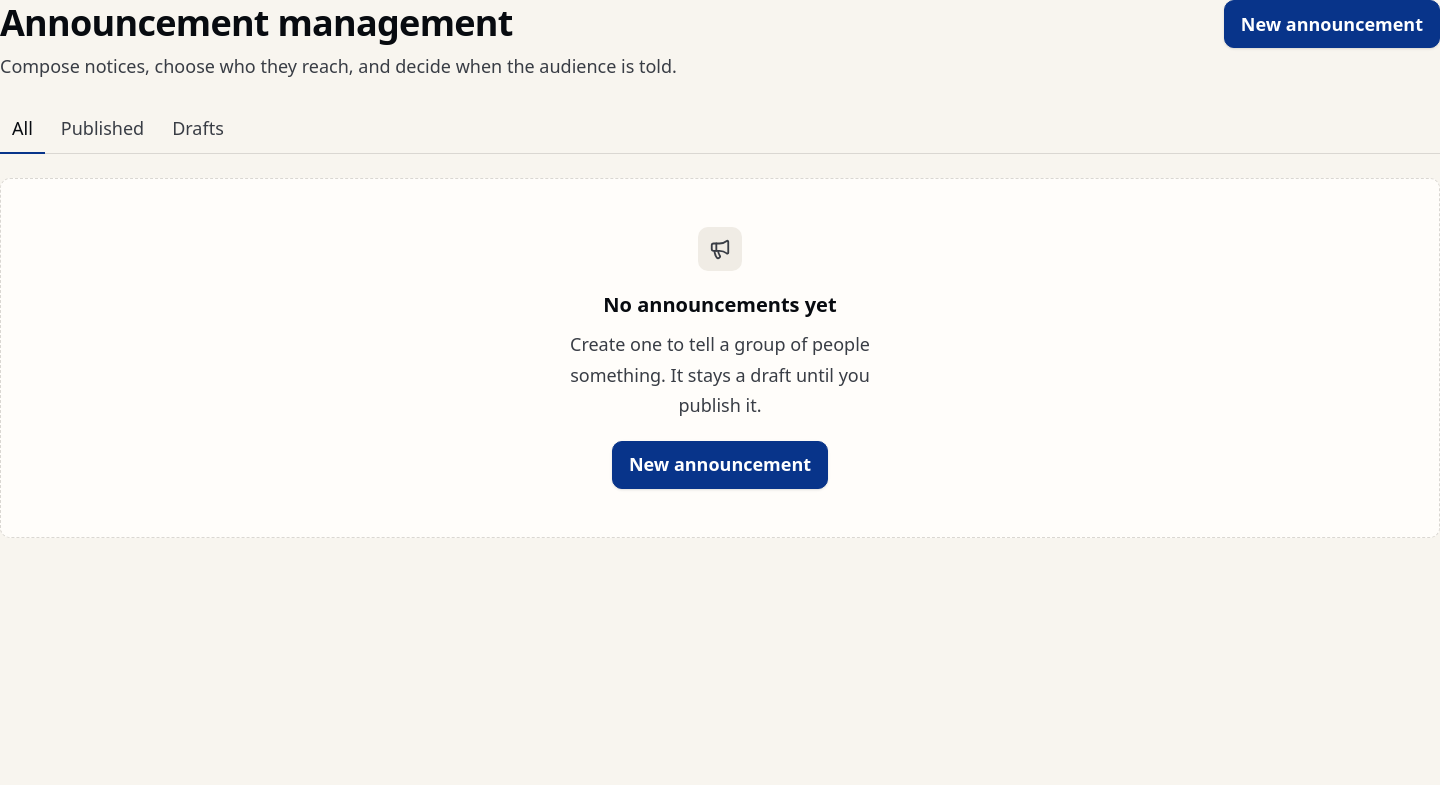
Scenario: AnnouncementManagementPage — Publish from the form › keeps the saved draft and says so when publishing fails
The width and height of the screenshot is (1440, 785).
Step 1. Click the button "New announcement" in the row of "Announcement management" → (1332, 24), box x1=1224 y1=0 x2=1439 y2=48
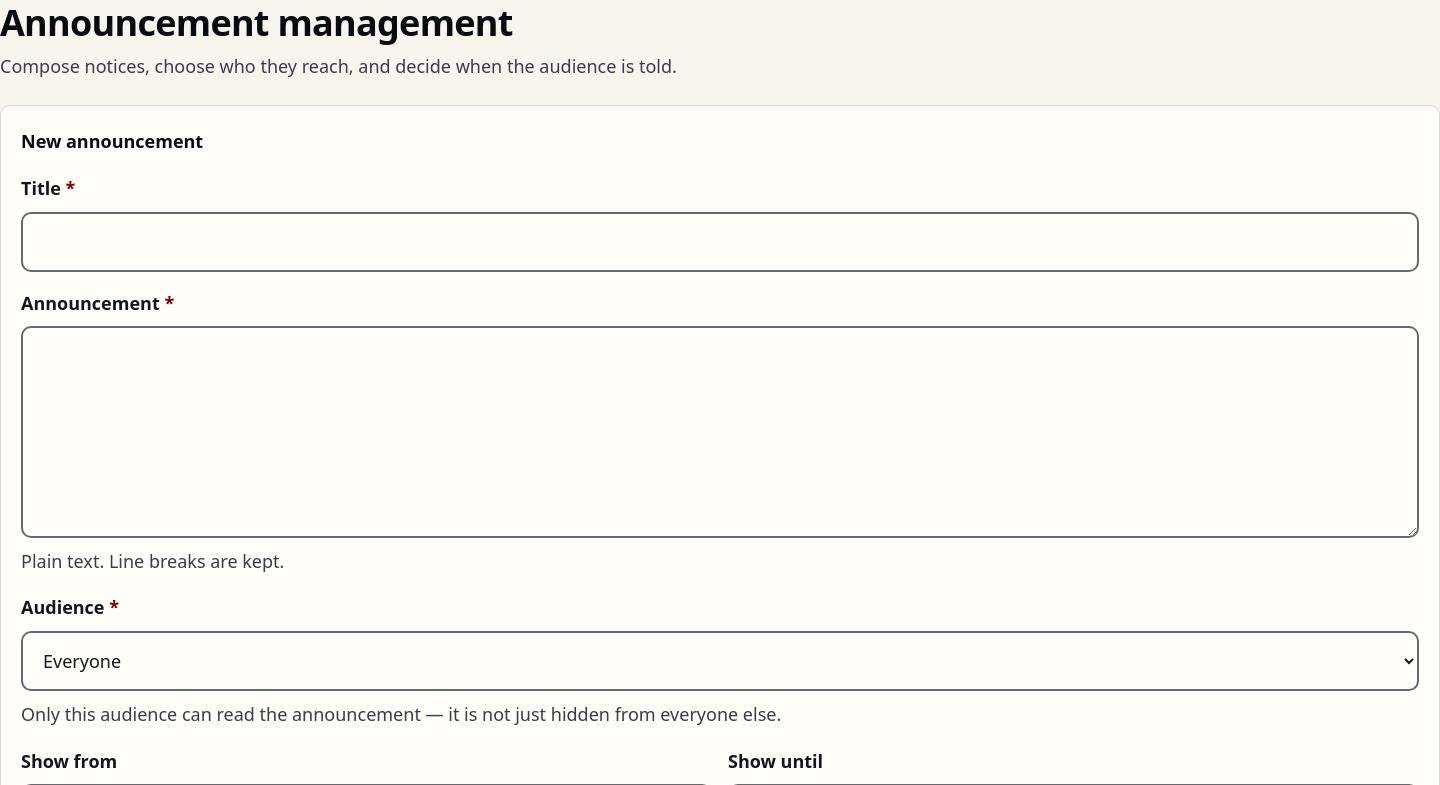
Step 2. Type "Lab closed" into the field labelled "Title *" → (720, 242), box x1=21 y1=212 x2=1419 y2=272
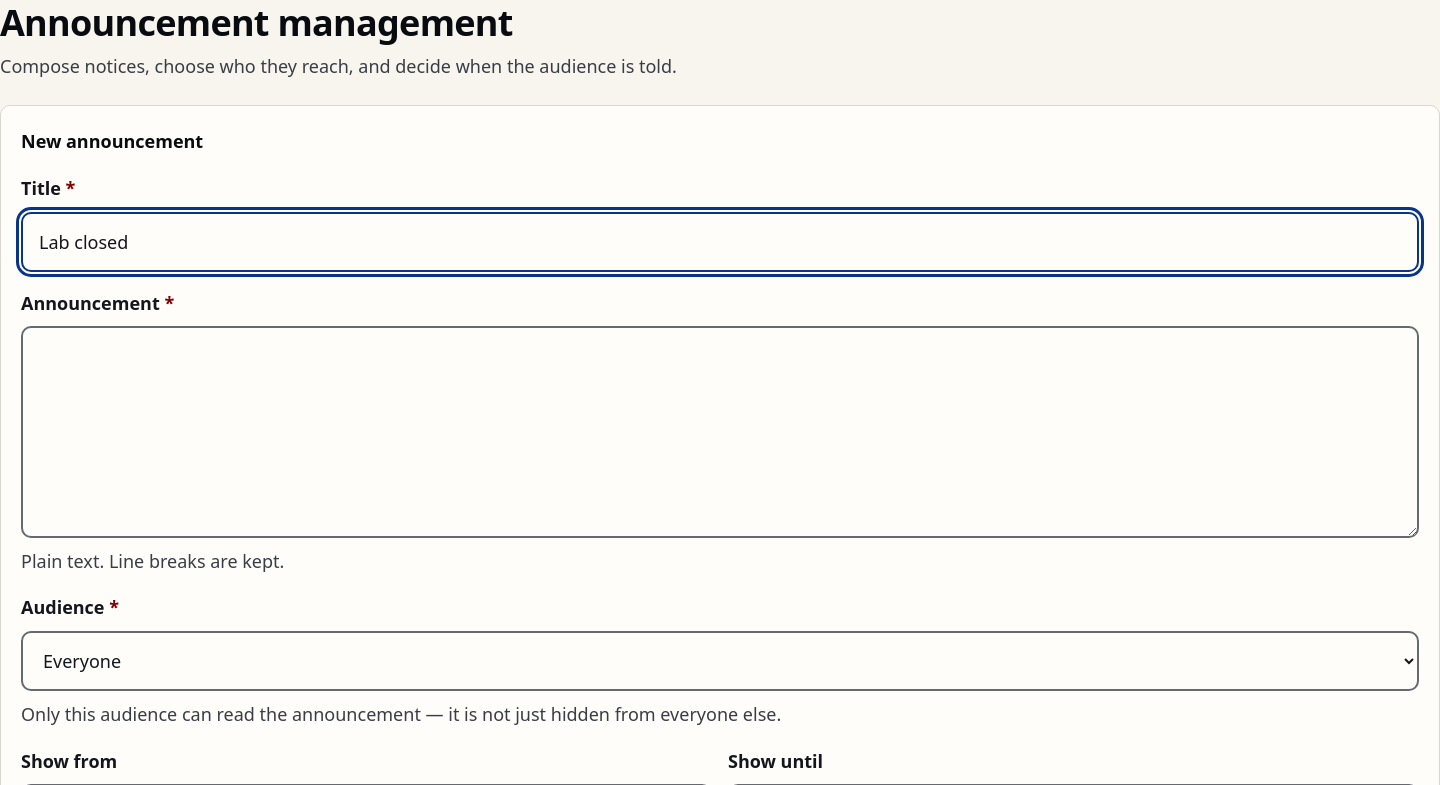
Step 3. Type "Lab 2 is closed today." into the text box labelled "Announcement *" → (720, 432), box x1=21 y1=326 x2=1419 y2=538
(page scrolled)
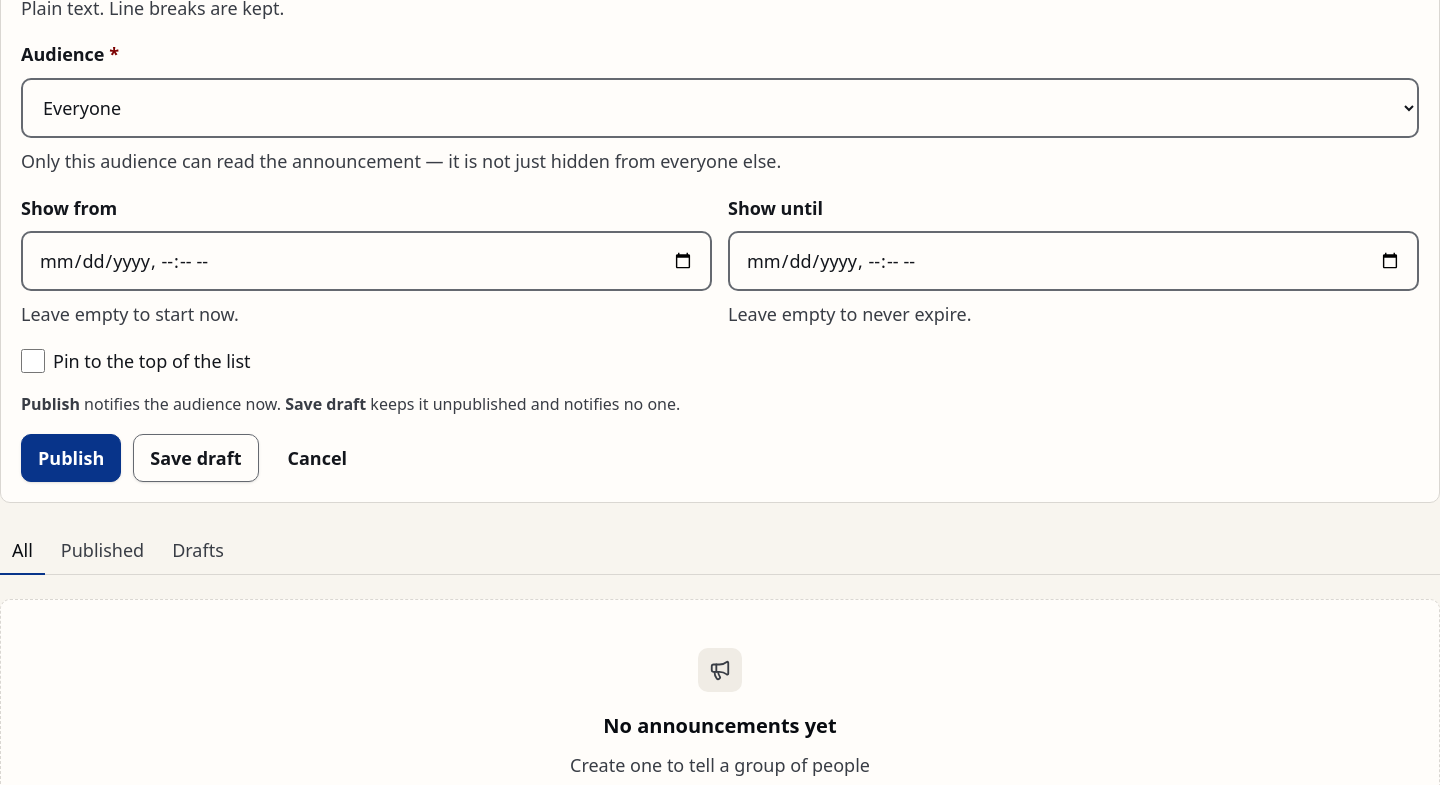
Step 4. Click the button "Publish" → (71, 458), box x1=21 y1=434 x2=121 y2=482
(page scrolled)
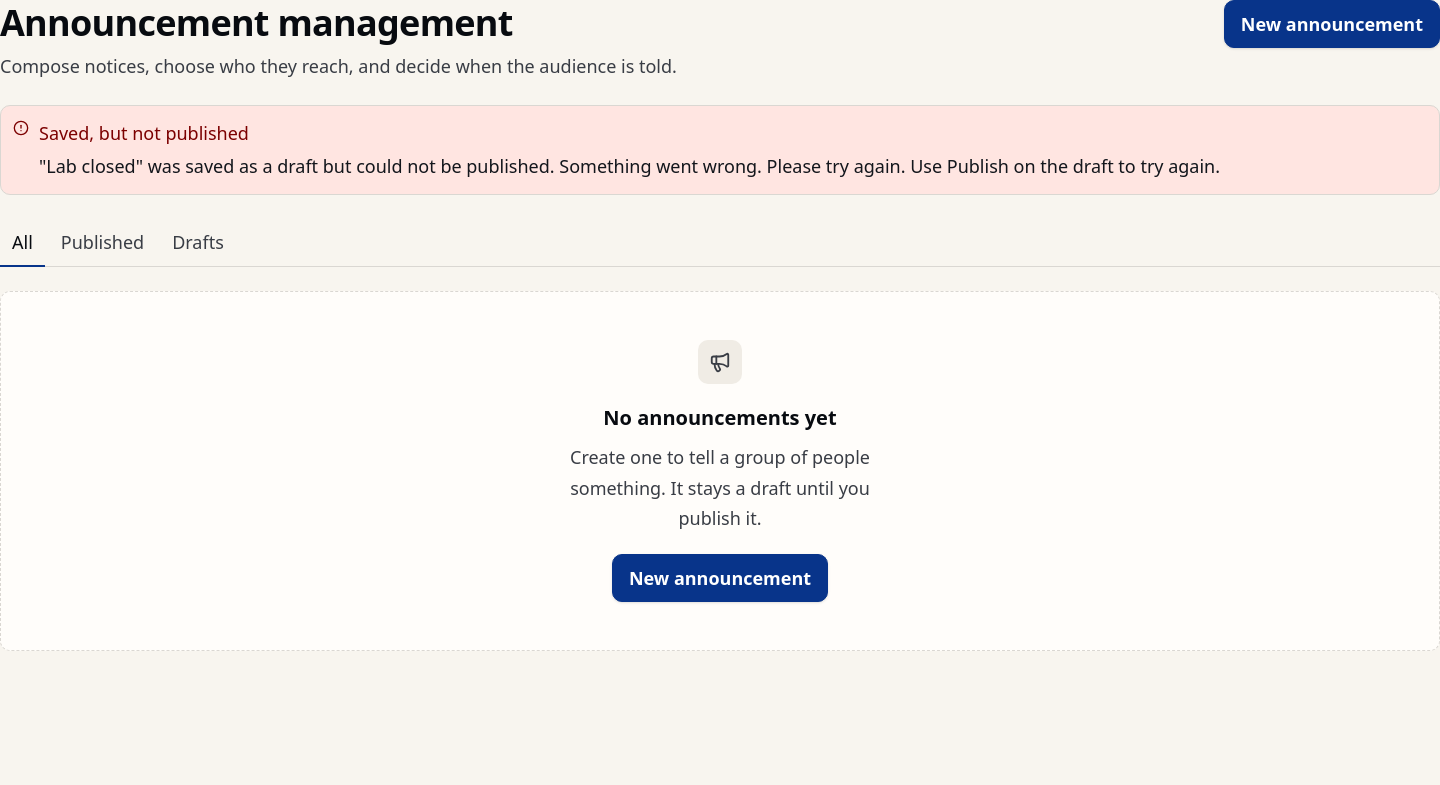
Check: the text "saved as a draft but could not be published" is shown, box x1=39 y1=154 x2=1220 y2=178
